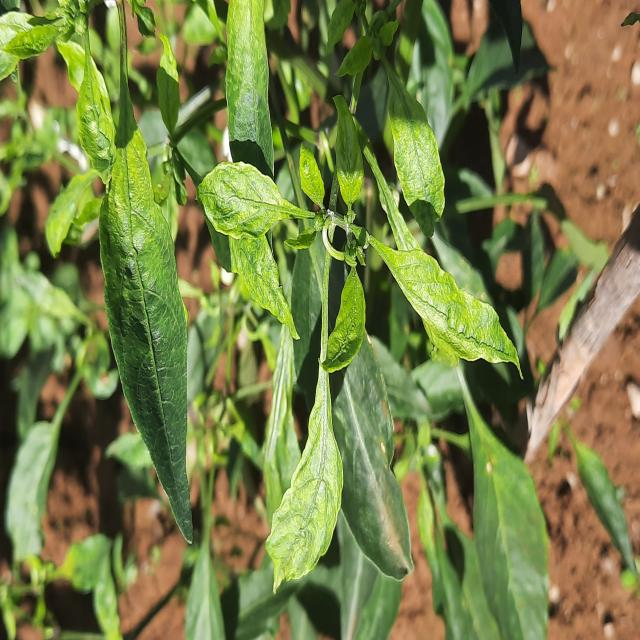thrips: (263, 310, 360, 600), (375, 232, 525, 381), (190, 155, 317, 242), (222, 230, 298, 343), (323, 283, 390, 387)
